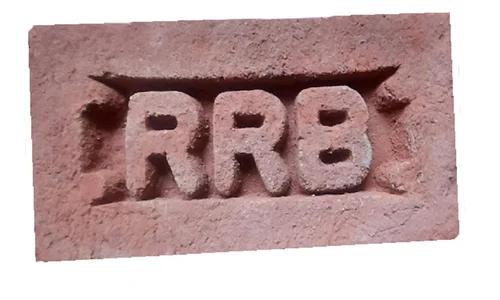brick: (26, 11, 459, 262)
